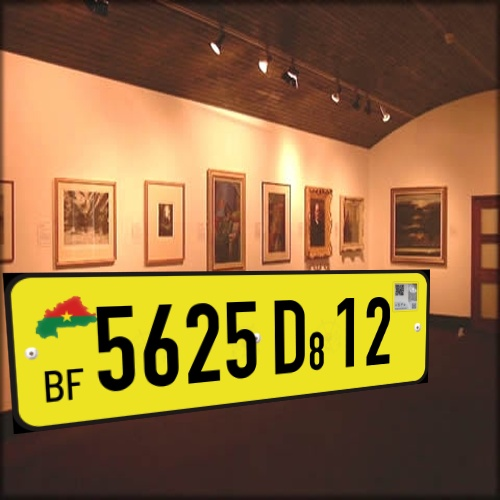plate: (1, 248, 445, 431)
